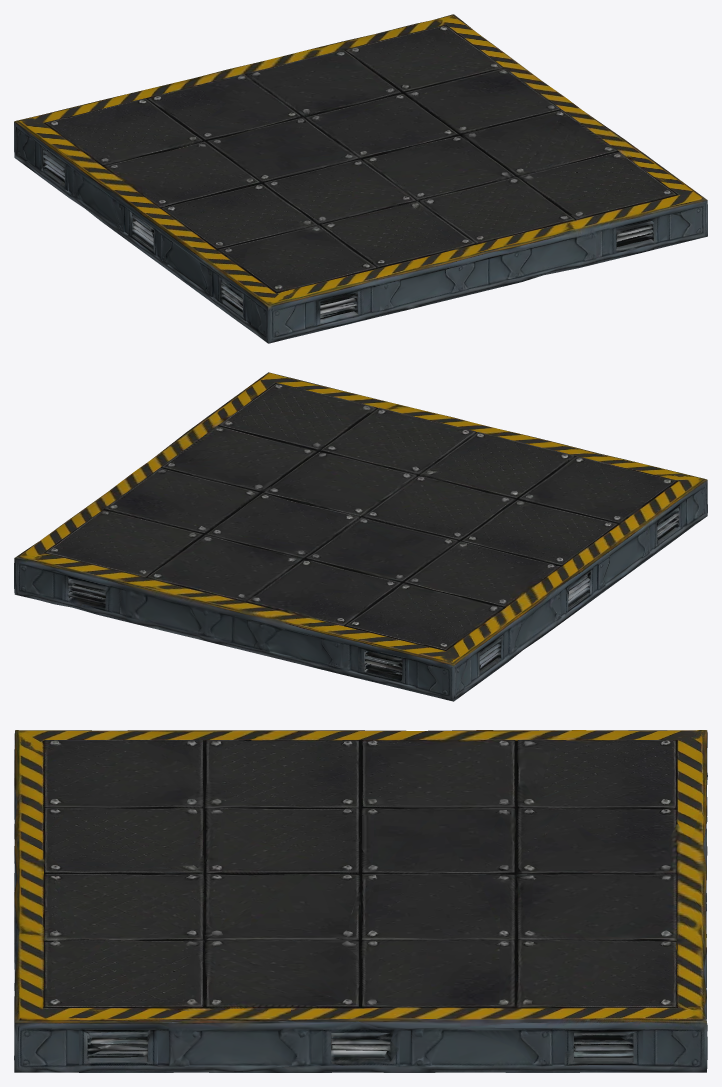
File: deck.glb
3 views of the same model, one above another, from view 1: azimuth 30°, elevation 25°; view 2: azimuth 150°, elevation 25°; view 3: azimuth 270°, elevation 25° (orthographic). The views are drawn at different scales.
Parts seen in each view (by area): view 1: tripo_node_2e028126-e7cf-4d5e-8a51-5cdd32182df6; view 2: tripo_node_2e028126-e7cf-4d5e-8a51-5cdd32182df6; view 3: tripo_node_2e028126-e7cf-4d5e-8a51-5cdd32182df6.
Part boxes in pixels (x1,y1,x2,y2): tripo_node_2e028126-e7cf-4d5e-8a51-5cdd32182df6: (14, 14, 707, 343); tripo_node_2e028126-e7cf-4d5e-8a51-5cdd32182df6: (14, 372, 707, 701); tripo_node_2e028126-e7cf-4d5e-8a51-5cdd32182df6: (14, 730, 707, 1072).
Bounding box in the file's own units: 0.9767 × 0.0871 × 0.9778.
1 material, 1 textured.
